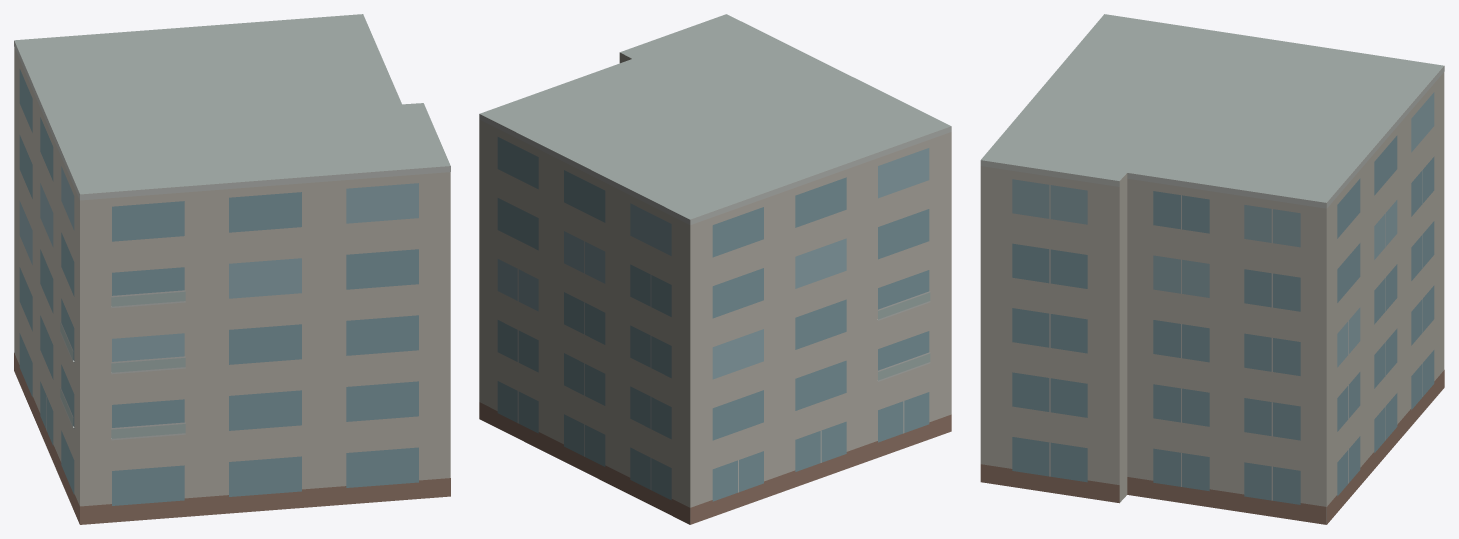
Rendered from survey-upis-32910622.glb.
3 renders of one model, left to right at view 1: azimuth 30°, elevation 25°; view 2: azimuth 150°, elevation 25°; view 3: azimuth 270°, elevation 25°, orthographic. The views are drawn at different scales.
Parts seen in each view (by area): view 1: survey-upis-32910622.tmp; view 2: survey-upis-32910622.tmp; view 3: survey-upis-32910622.tmp.
Boxes of the visible parts, x1=… form: survey-upis-32910622.tmp: x1=14, y1=14, x2=450, y2=524; survey-upis-32910622.tmp: x1=479, y1=14, x2=951, y2=524; survey-upis-32910622.tmp: x1=980, y1=14, x2=1444, y2=524.
Bounding box in the file's own units: 16.74 × 13.3 × 17.38.
